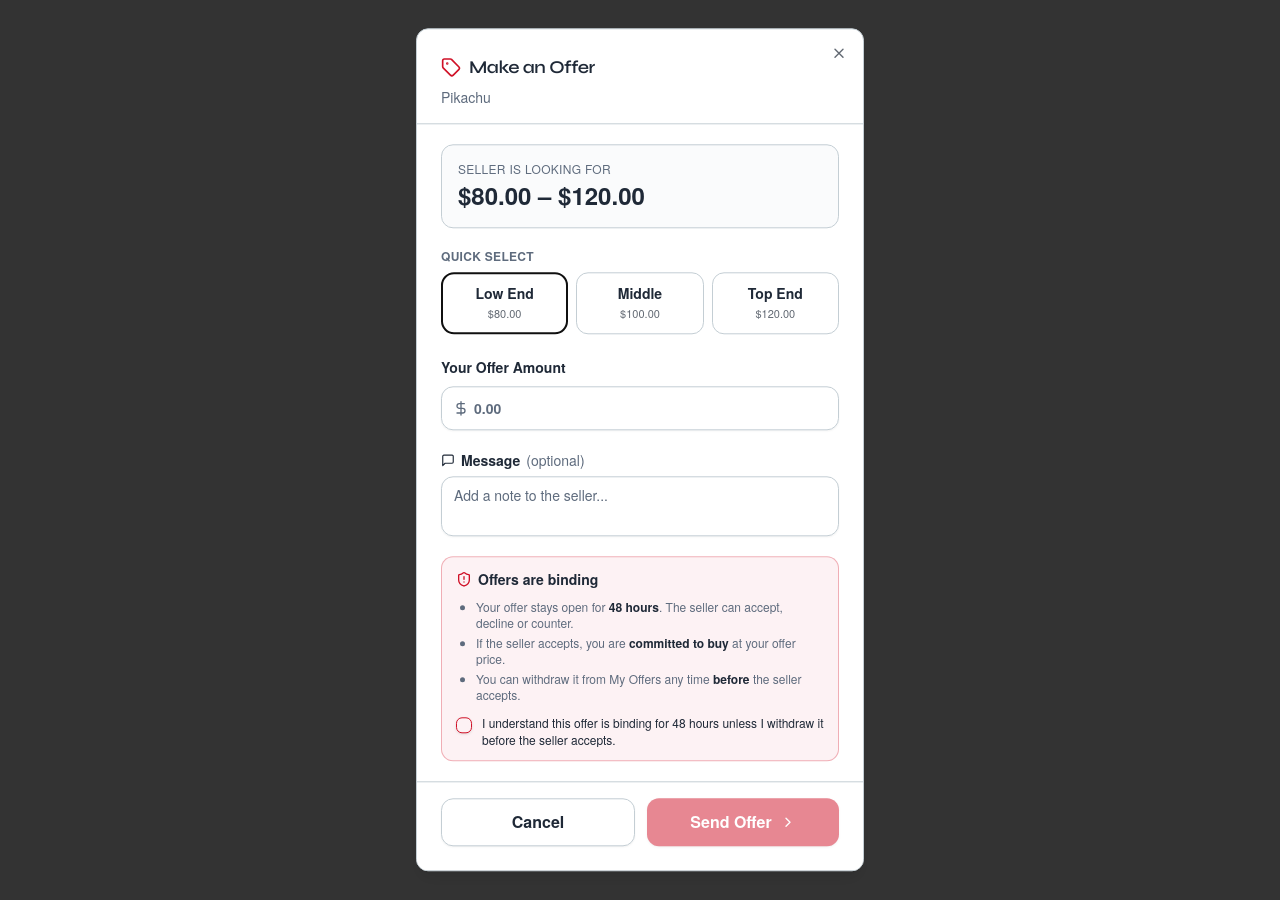
Test: MakeOfferModal — expression-of-interest listing › flags whether the typed amount is inside the range
Type "100" into the number field labelled "Your Offer Amount" at (640, 409), box top-left (441, 387), bottom-right (839, 431)
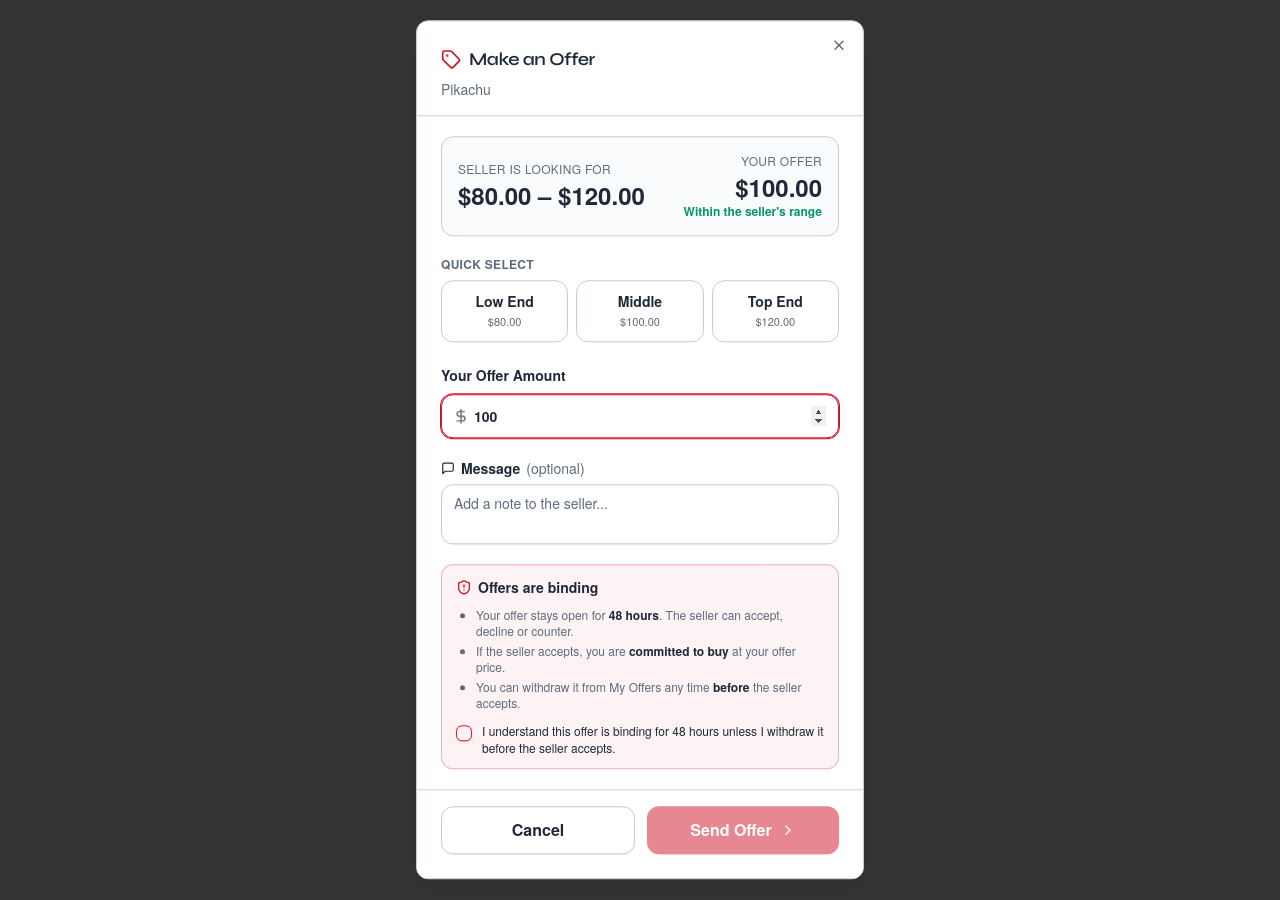
Check: the text "Within the seller's range" is shown, box top-left (684, 203), bottom-right (822, 219)
Clear the number field labelled "Your Offer Amount" at (640, 417), box top-left (441, 395), bottom-right (839, 439)
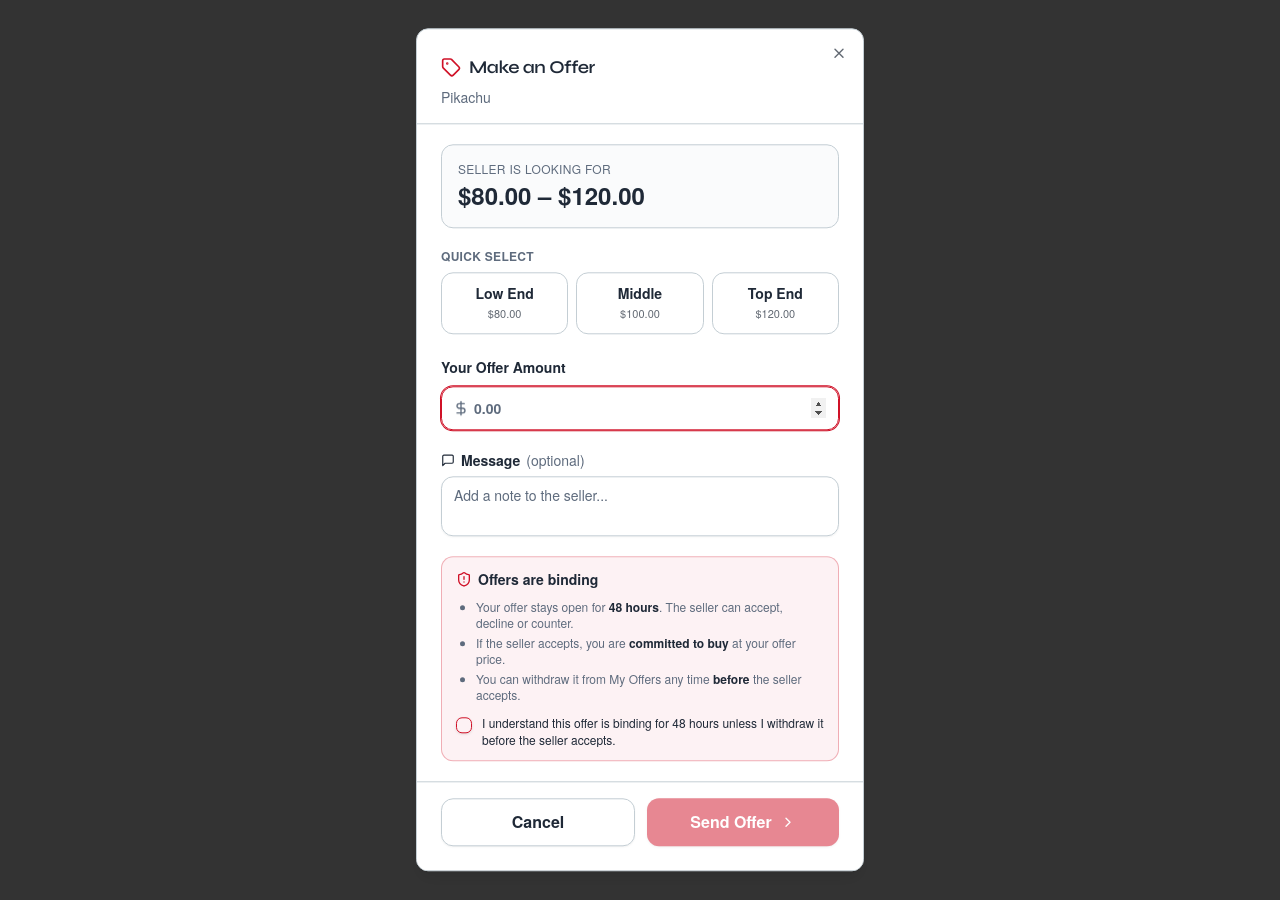
Type "50" into the number field labelled "Your Offer Amount" at (640, 409), box top-left (441, 387), bottom-right (839, 431)
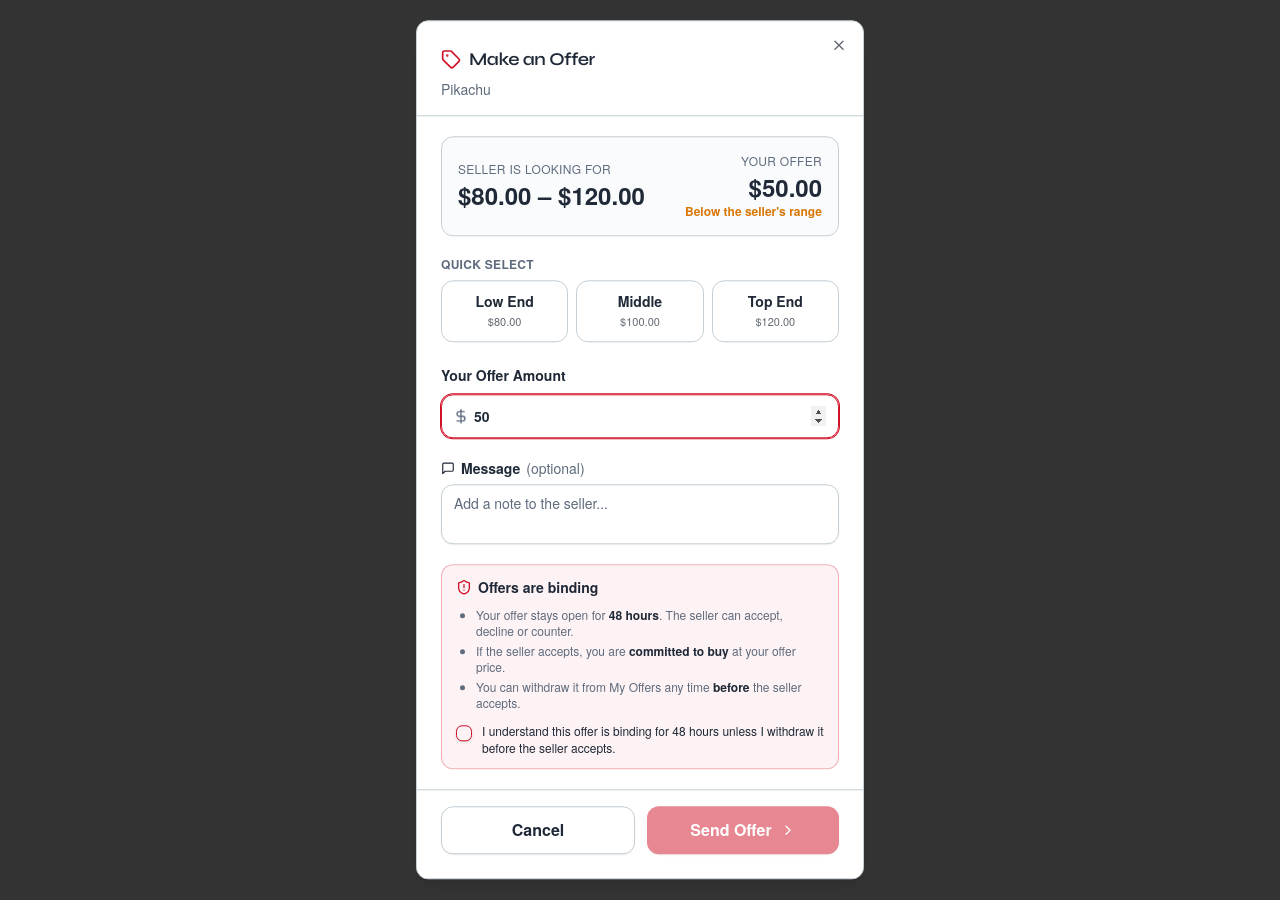
Check: the text "Below the seller's range" is shown, box top-left (685, 203), bottom-right (822, 219)
